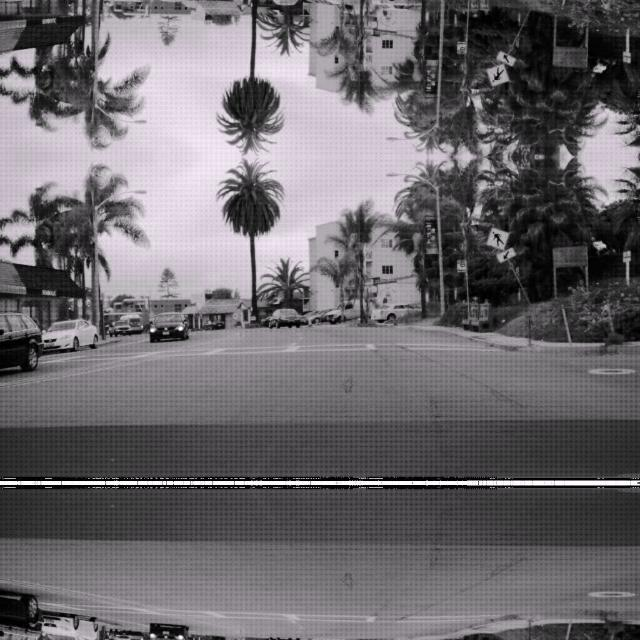pedestrianCrossing: (485, 224, 509, 250), (485, 62, 509, 88)
